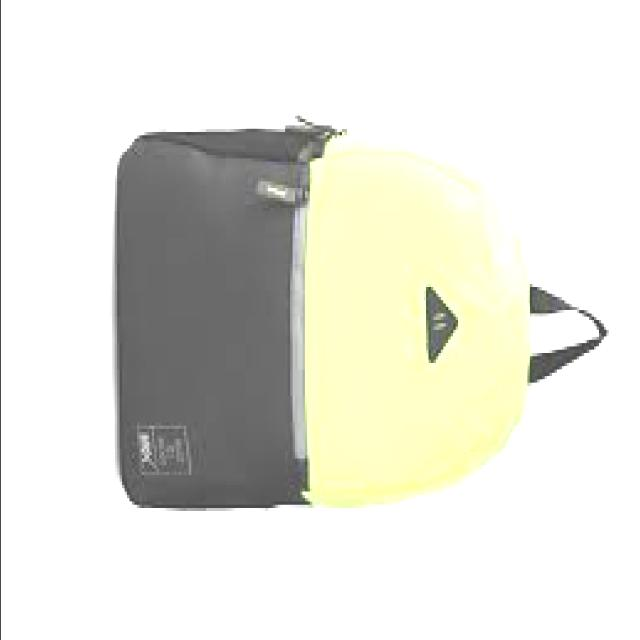backpack: (117, 117, 611, 513)
